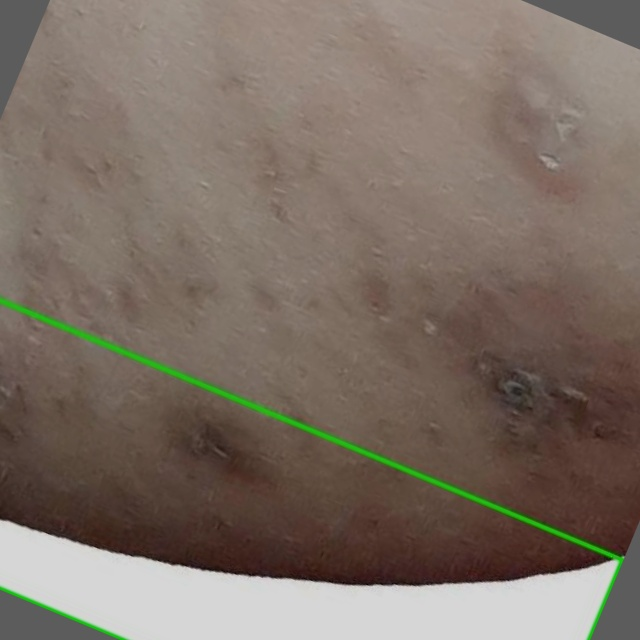Scabies: (0, 300, 622, 639)
